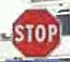stop: (10, 7, 61, 58)
